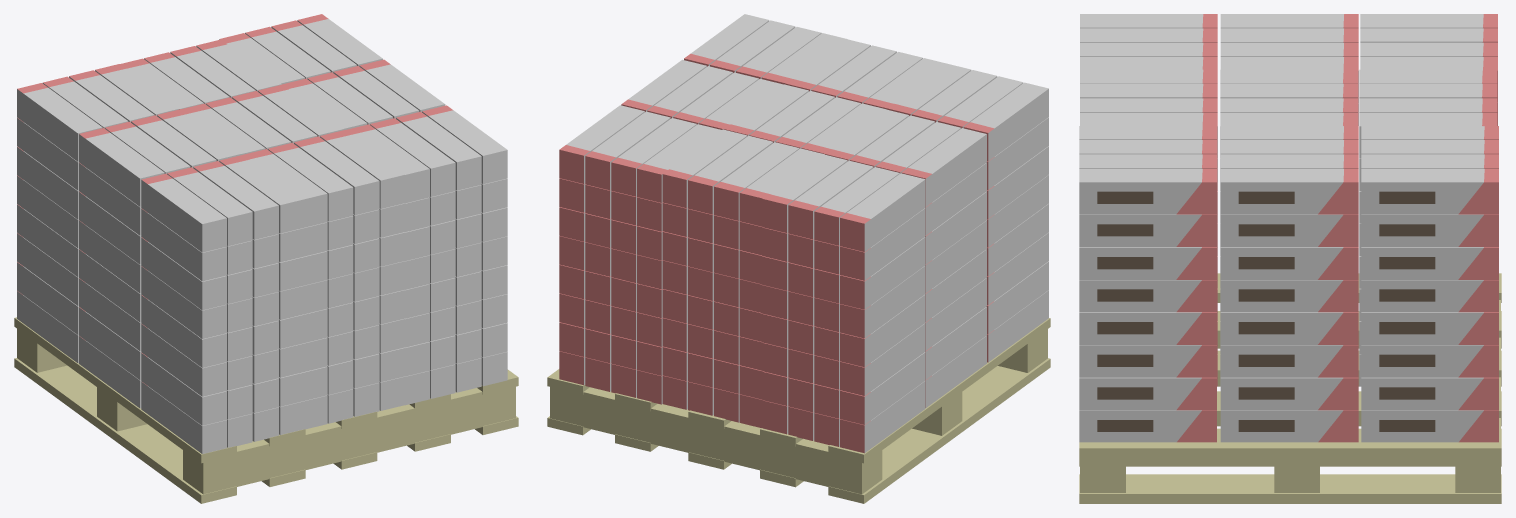
The model's file is Aluminum Foil Skid.fbx.
3 views of the same model, side by side, from view 1: azimuth 30°, elevation 25°; view 2: azimuth 150°, elevation 25°; view 3: azimuth 270°, elevation 25° (orthographic). The views are drawn at different scales.
Parts seen in each view (by area): view 1: palette_full_3; view 2: palette_full_3; view 3: palette_full_3.
Part boxes in pixels (box(x1,y1,x2,y2)): palette_full_3: box(14, 14, 518, 503); palette_full_3: box(547, 14, 1050, 503); palette_full_3: box(1079, 14, 1501, 503).
Bounding box in the file's own units: 1.05 × 0.8828 × 1.07.
